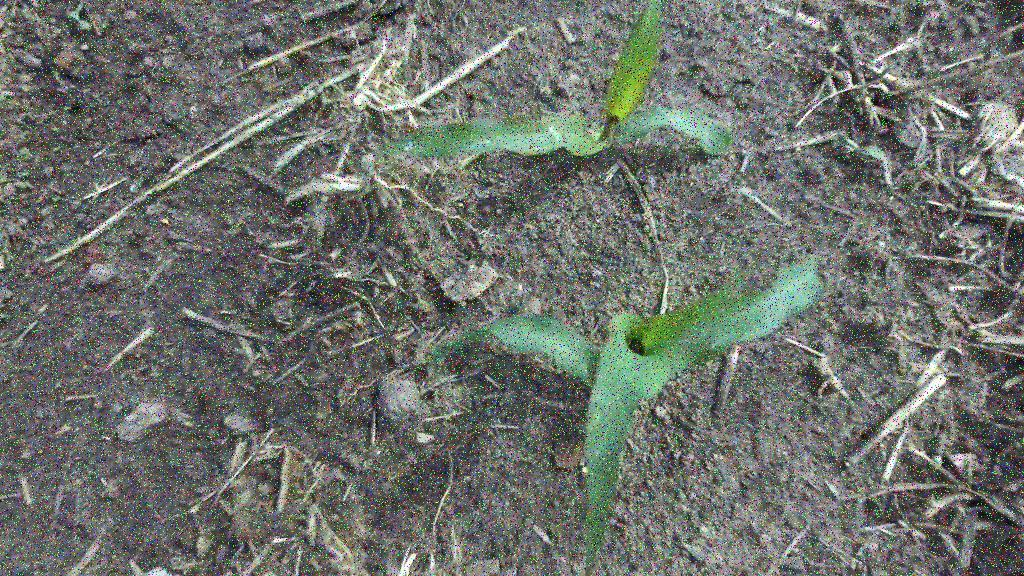BroWeed: (829, 124, 905, 187), (64, 5, 95, 33), (2, 50, 20, 67), (15, 145, 33, 162), (16, 179, 35, 189), (19, 127, 32, 139), (0, 170, 12, 183), (13, 116, 26, 127), (51, 193, 65, 203), (51, 143, 63, 154), (457, 297, 468, 308), (101, 18, 110, 29), (0, 312, 14, 319), (0, 254, 6, 270), (50, 124, 60, 133), (19, 170, 29, 178), (81, 86, 92, 93), (53, 71, 60, 80), (102, 100, 110, 107), (0, 94, 7, 101), (63, 106, 70, 110)
Maize: (384, 103, 841, 576)
